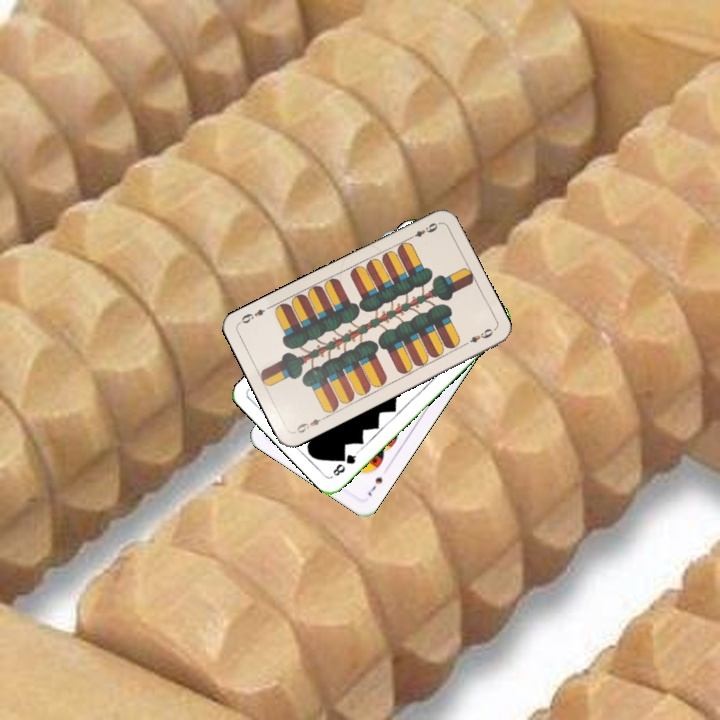E9: (291, 412, 329, 436), (404, 218, 440, 242)
G8: (329, 448, 361, 479)
S7: (364, 473, 385, 499)
